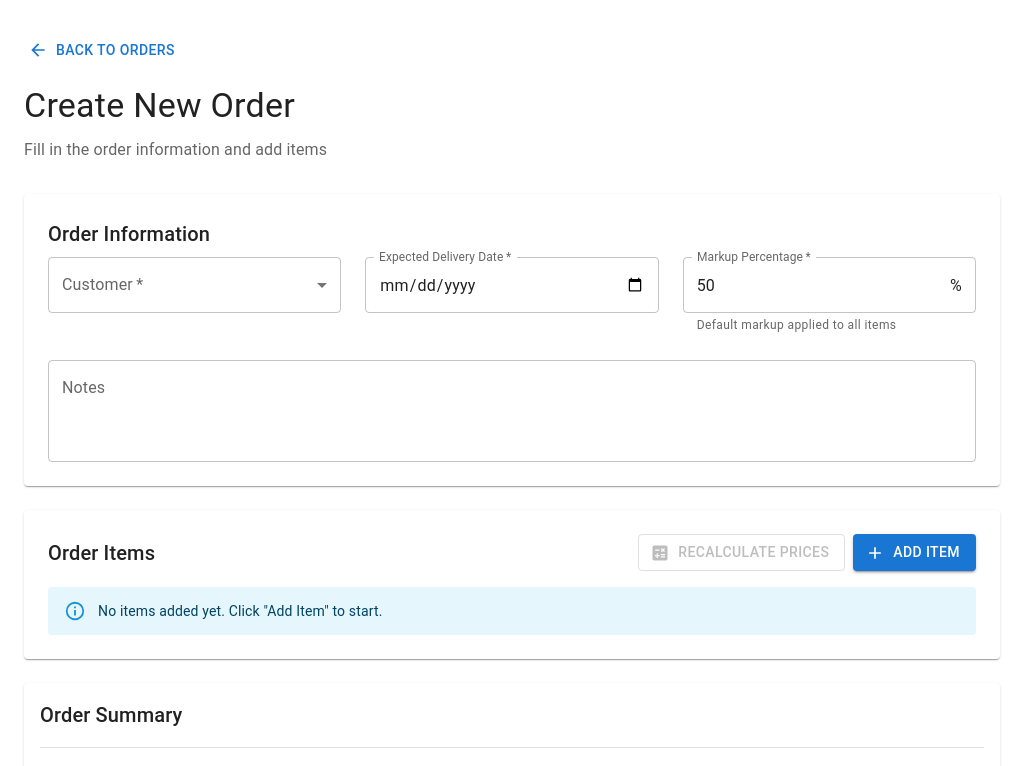
Test: OrderForm Page › Dynamic Order Items Array › adds a new item row
Click the button "Add Item" at (915, 553), box x1=853 y1=534 x2=976 y2=571
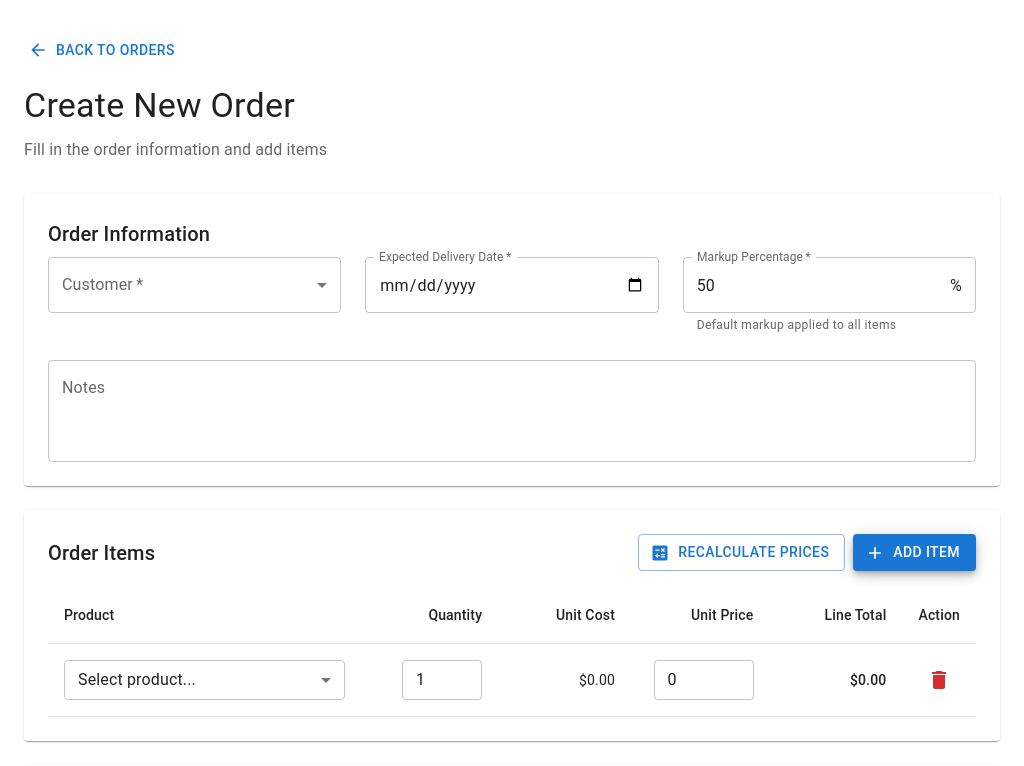
Now the table is shown, box x1=48 y1=587 x2=976 y2=717
Now the column heading "Product" is shown, box x1=48 y1=587 x2=361 y2=643
Now the column heading "Quantity" is shown, box x1=361 y1=587 x2=498 y2=643
